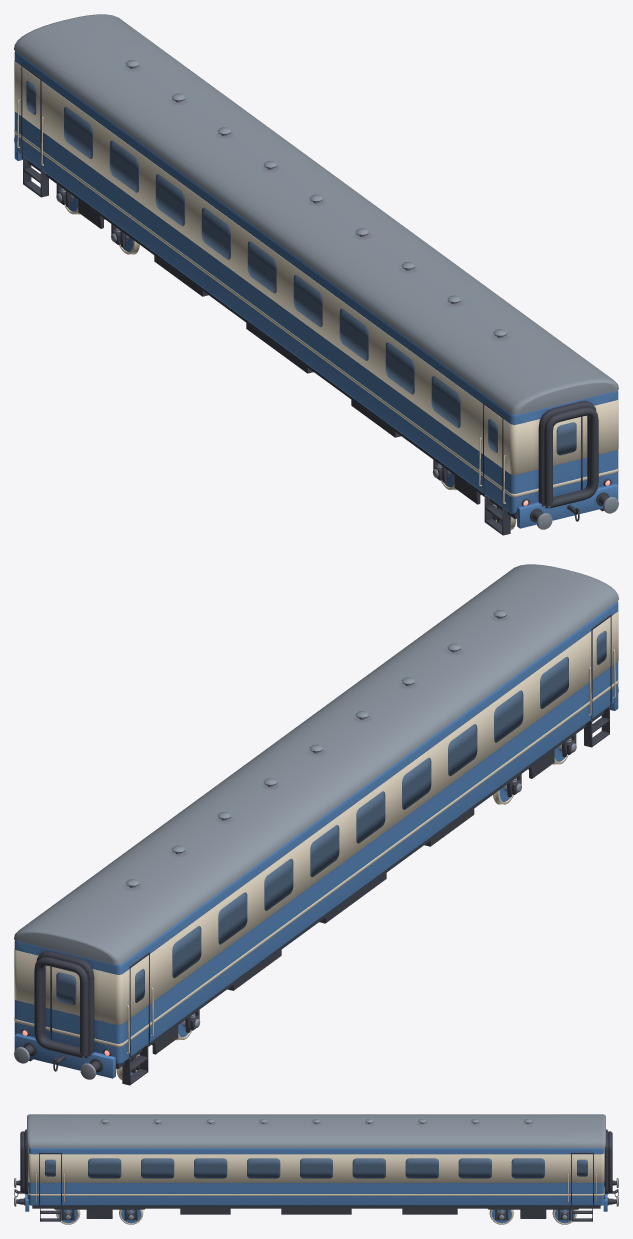
File: passenger-car.glb
3 views of the same model, one above another, from view 1: azimuth 30°, elevation 25°; view 2: azimuth 150°, elevation 25°; view 3: azimuth 270°, elevation 25° (orthographic). The views are drawn at different scales.
Visible parts, largest first — view 1: passenger-car_body, passenger-car_window_glass; view 2: passenger-car_body, passenger-car_window_glass; view 3: passenger-car_body, passenger-car_window_glass.
Part boxes in pixels (box(x1,y1,x2,y2)): passenger-car_body: box(14, 14, 618, 535); passenger-car_window_glass: box(26, 80, 576, 455); passenger-car_body: box(14, 564, 618, 1085); passenger-car_window_glass: box(56, 630, 606, 1005); passenger-car_body: box(14, 1114, 618, 1224); passenger-car_window_glass: box(45, 1158, 587, 1178).
Bounding box in the file's own units: 2.97 × 4.22 × 24.
3 materials, 1 textured.
